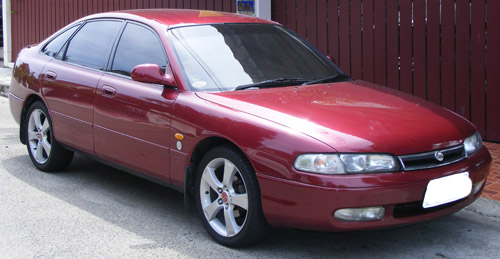sedan: (7, 7, 494, 247)
